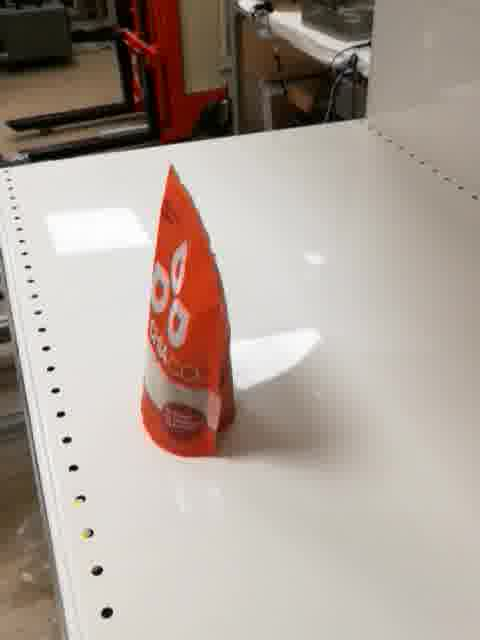whitechia: (138, 160, 239, 466)
